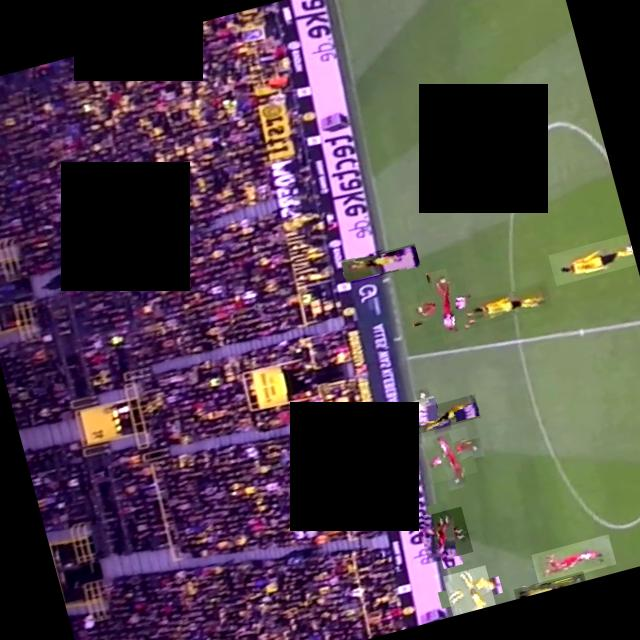ball: (414, 386, 430, 402)
soccer-player: (548, 232, 636, 284), (530, 532, 616, 584), (462, 279, 552, 328), (414, 274, 476, 336), (420, 425, 478, 483), (340, 242, 420, 283), (416, 505, 473, 562), (442, 564, 496, 616), (410, 393, 480, 433), (378, 394, 440, 434), (513, 570, 585, 598)
